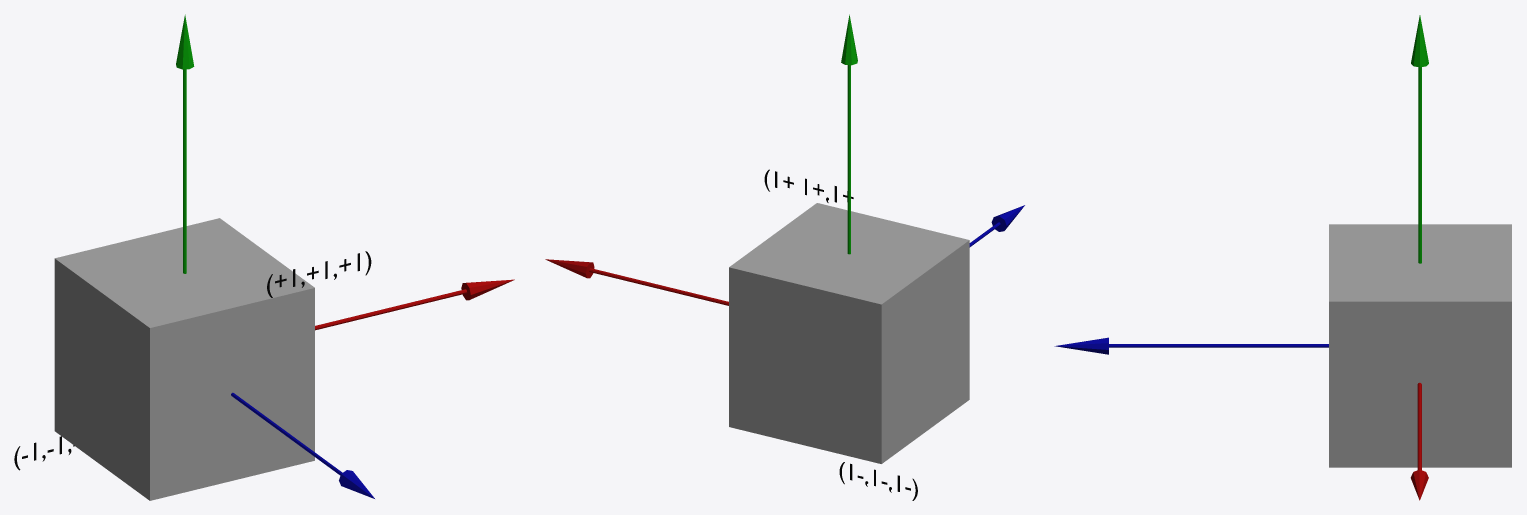
The model's file is viewing_volume_test.obj.
3 renders of one model, left to right at view 1: azimuth 30°, elevation 25°; view 2: azimuth 150°, elevation 25°; view 3: azimuth 270°, elevation 25°, orthographic. The views are drawn at different scales.
Parts seen in each view (by area): view 1: Viewing_volume, yaxis, xaxis, zaxis; view 2: Viewing_volume, yaxis, xaxis; view 3: Viewing_volume, zaxis, yaxis, xaxis.
Part boxes in pixels (x1=…): Viewing_volume: x1=54, y1=218, x2=314, y2=500; yaxis: x1=176, y1=14, x2=194, y2=273; xaxis: x1=315, y1=279, x2=514, y2=330; zaxis: x1=231, y1=392, x2=374, y2=498; Viewing_volume: x1=729, y1=203, x2=969, y2=463; yaxis: x1=841, y1=14, x2=857, y2=254; xaxis: x1=545, y1=259, x2=728, y2=305; Viewing_volume: x1=1329, y1=224, x2=1511, y2=467; zaxis: x1=1054, y1=337, x2=1328, y2=354; yaxis: x1=1411, y1=15, x2=1428, y2=263; xaxis: x1=1410, y1=382, x2=1428, y2=500.
Size of the model in its own units: 1.37 by 1.34 by 1.25.
